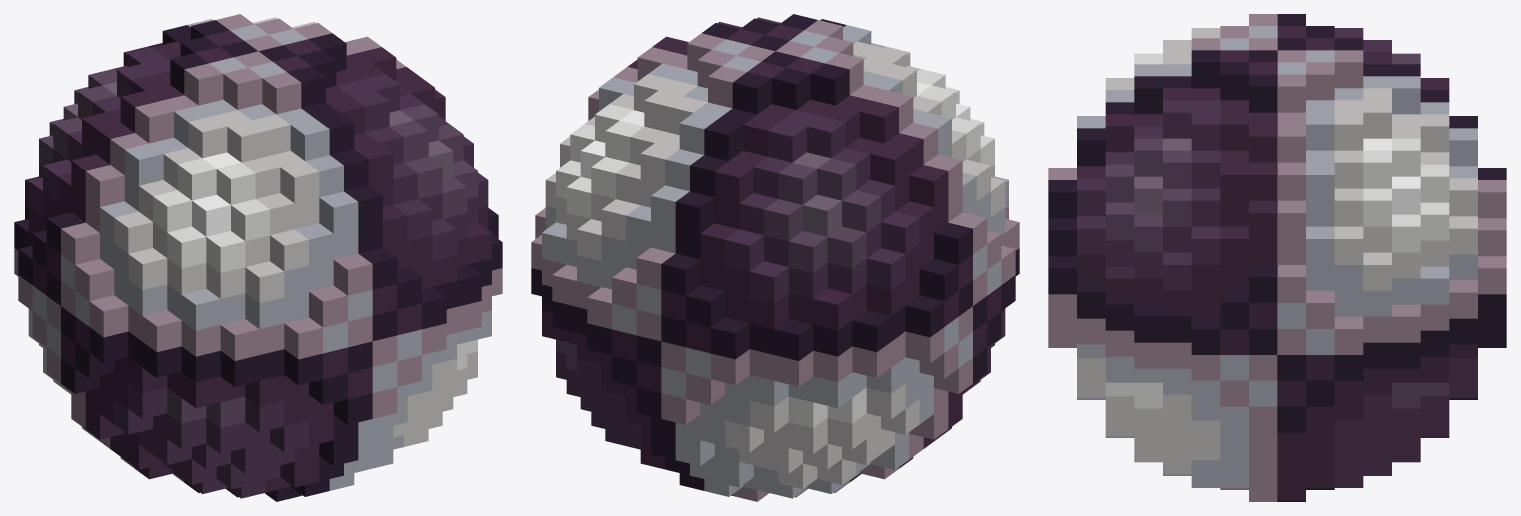
Rendered from Ball.obj.
The picture shows the model from 3 angles, left to right: view 1: azimuth 30°, elevation 25°; view 2: azimuth 150°, elevation 25°; view 3: azimuth 270°, elevation 25°; orthographic projection.
Parts seen in each view (by area): view 1: Ball; view 2: Ball; view 3: Ball.
Part boxes in pixels (bbox=[...]): Ball: bbox=[14, 14, 502, 501]; Ball: bbox=[531, 14, 1019, 501]; Ball: bbox=[1048, 14, 1506, 501].
Bounding box in the file's own units: 1.6 × 1.6 × 1.6.
